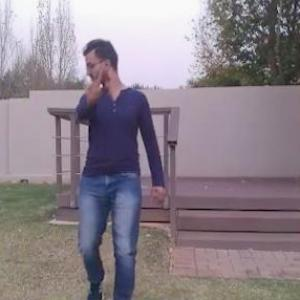takeoff-hand: (82, 52, 115, 101)
